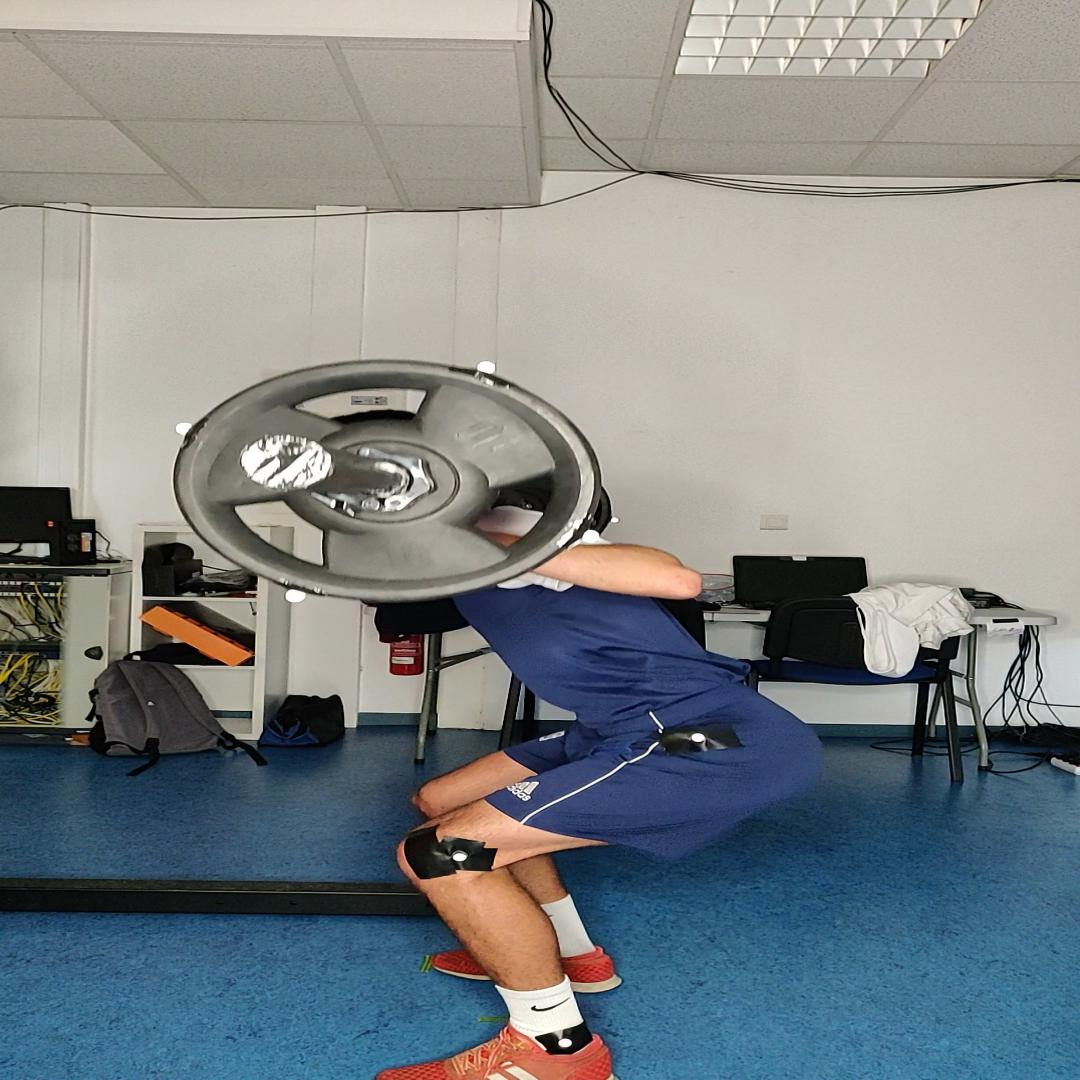Bar: (242, 434, 333, 490)
Barbell: (173, 359, 602, 601)
